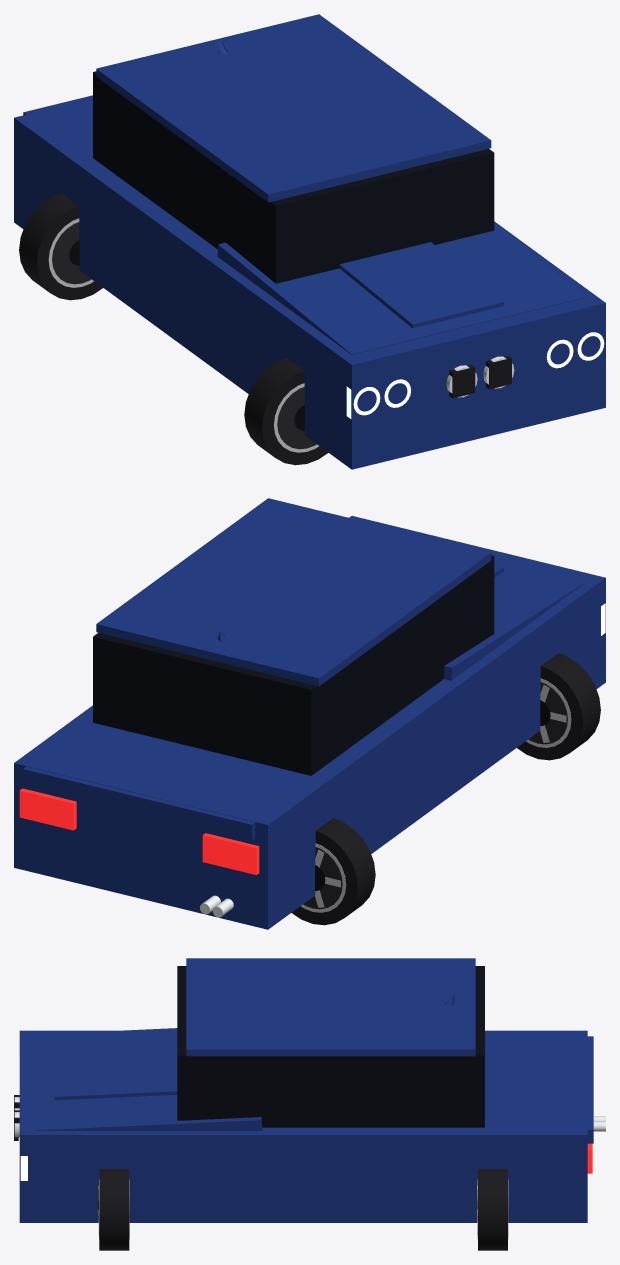
The model's file is bmw_3_e46.glb.
3 views of the same model, one above another, from view 1: azimuth 30°, elevation 25°; view 2: azimuth 150°, elevation 25°; view 3: azimuth 270°, elevation 25° (orthographic). The views are drawn at different scales.
Visible parts, largest first — view 1: BMW_3_E46_Sedan; view 2: BMW_3_E46_Sedan; view 3: BMW_3_E46_Sedan.
Boxes of the visible parts, x1,y1,x2,y2 form: BMW_3_E46_Sedan: (14, 14, 605, 469); BMW_3_E46_Sedan: (14, 498, 605, 929); BMW_3_E46_Sedan: (14, 958, 605, 1250).
Bounding box in the file's own units: 2.64 × 1.79 × 4.75.
